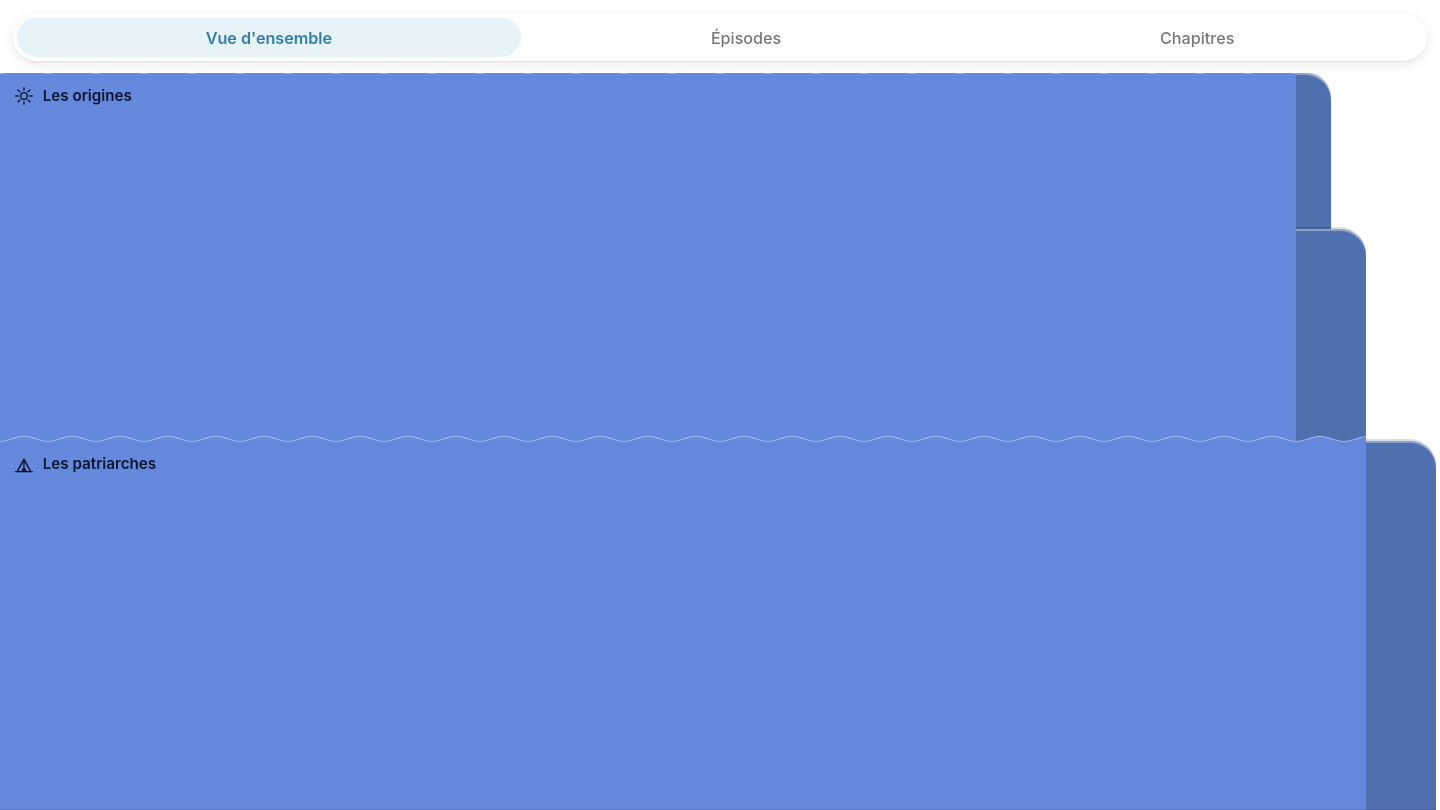
Scenario: Frise › au niveau le plus fin, les chapitres disent quelle partie l'épisode en couvre
Click the button "Chapitres" at (1197,38), box [972,18,1423,57]
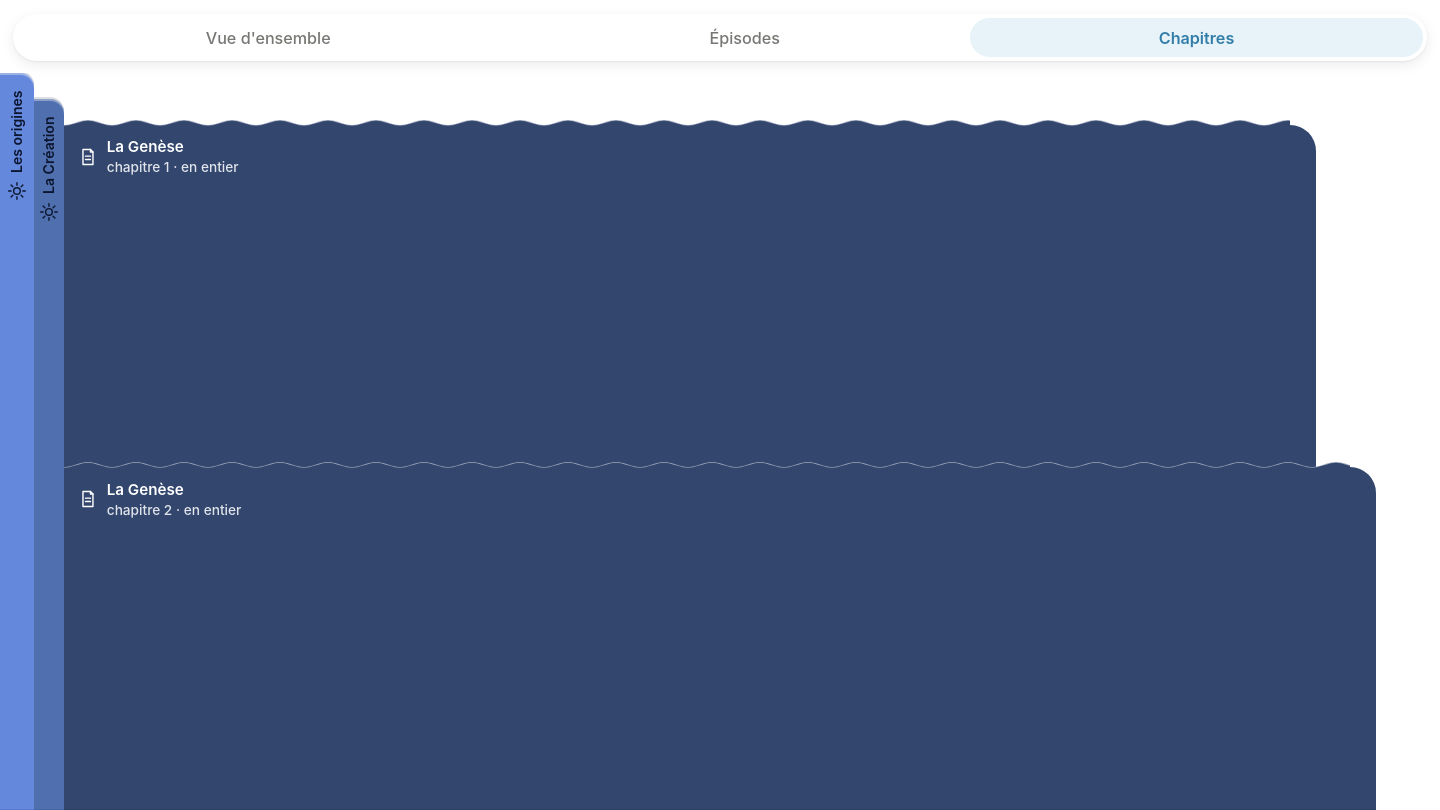
Check: the text "chapitre 1 · en entier" is shown, box [107,159,238,175]
